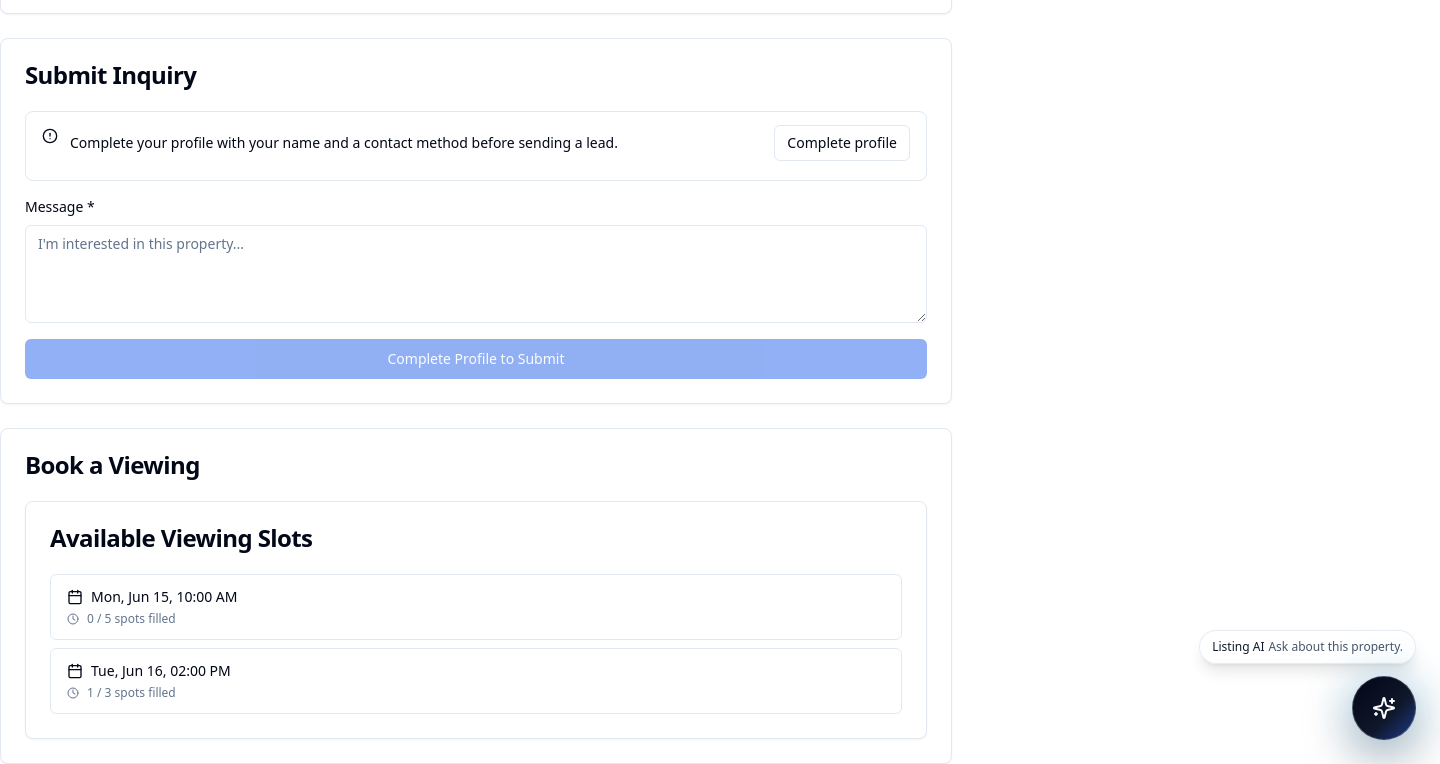
Viewing Booking Flow › submits booking form successfully
(page scrolled)
Expected: the text "Available Viewing Slots" is shown, [50, 521, 312, 554]
Click the button "Mon, Jun 15, 10:00 AM 0 / 5 spots filled": [164, 596] box [50, 574, 902, 640]
(page scrolled)
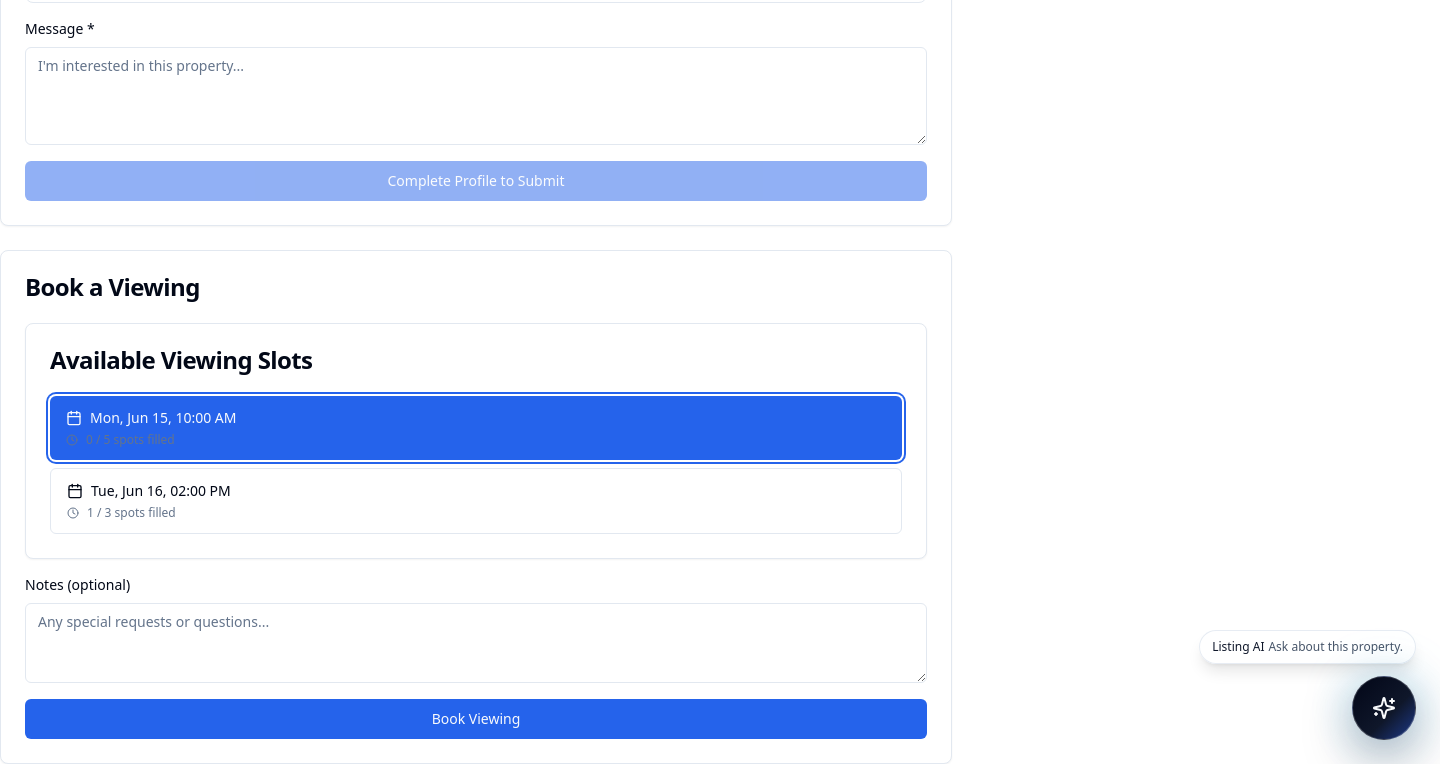
Click the button "Book Viewing": [476, 719] box [25, 699, 927, 739]
(page scrolled)
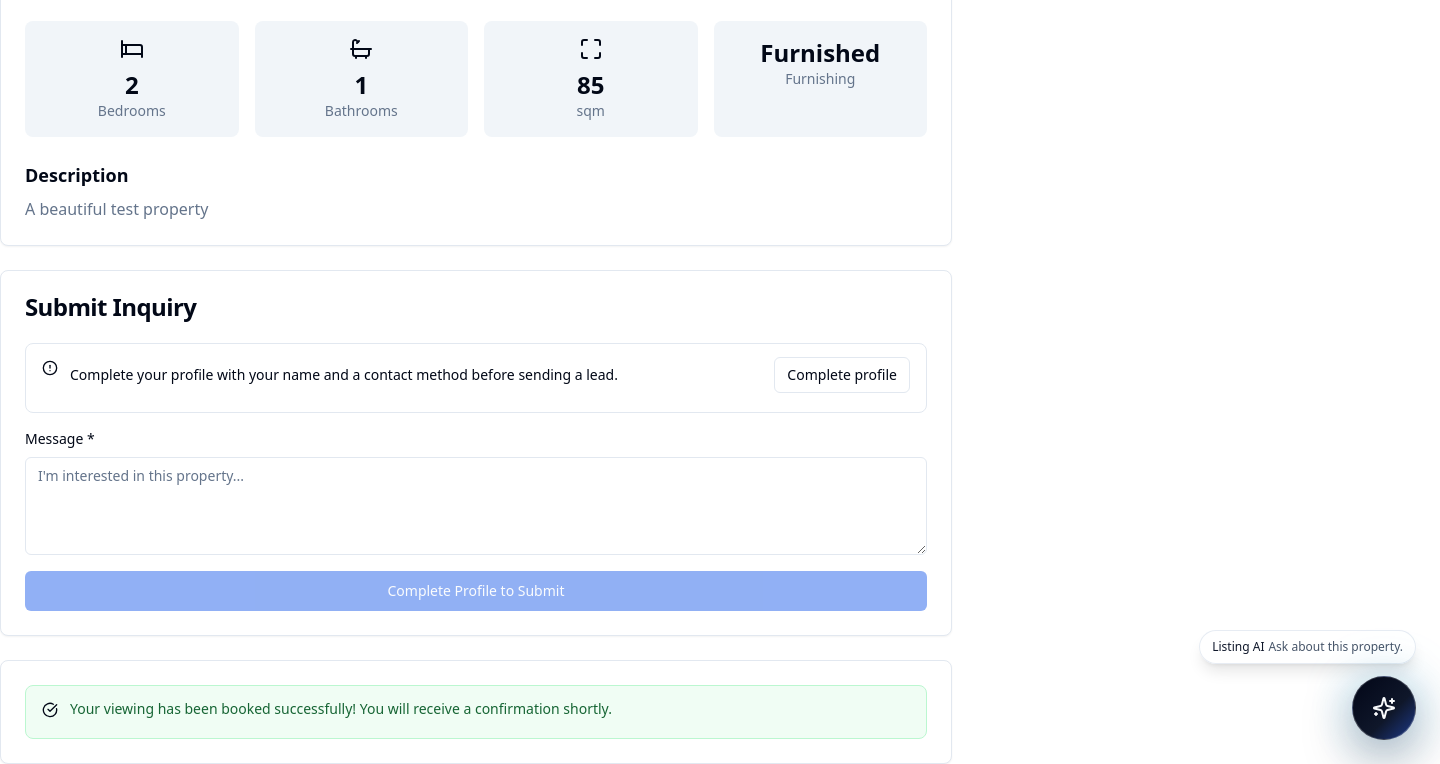
Result: the text "booked successfully" is shown at [70, 699, 612, 718]
